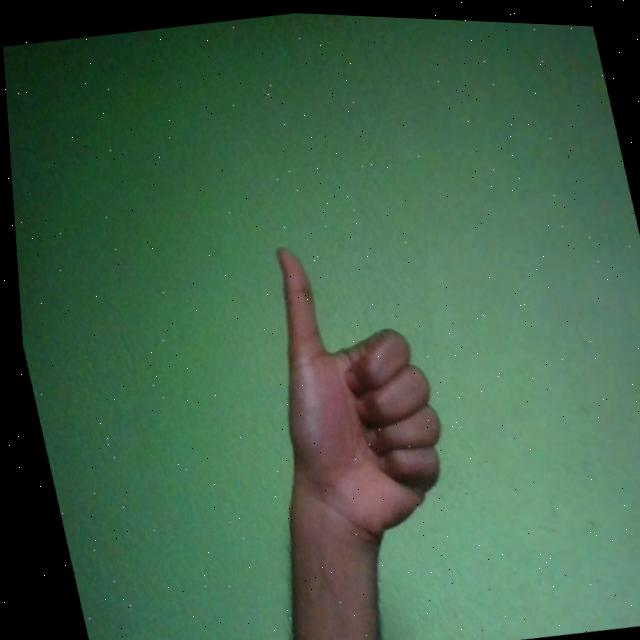Good Job: (242, 224, 460, 554)
